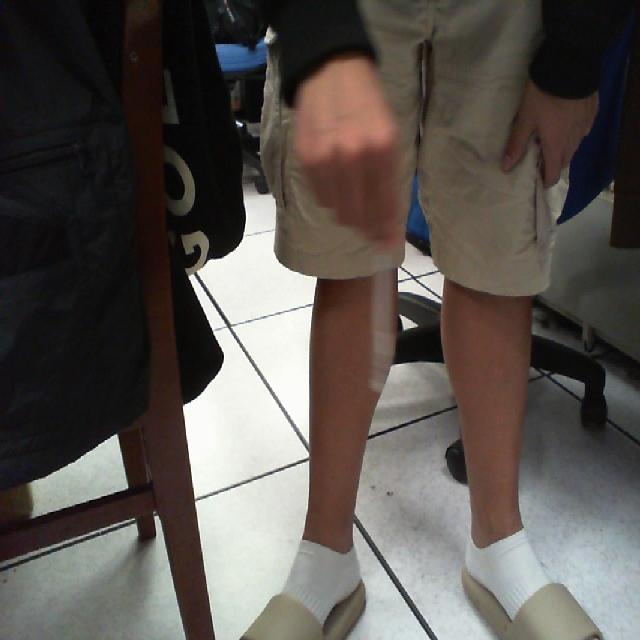Pen: (366, 218, 412, 417)
